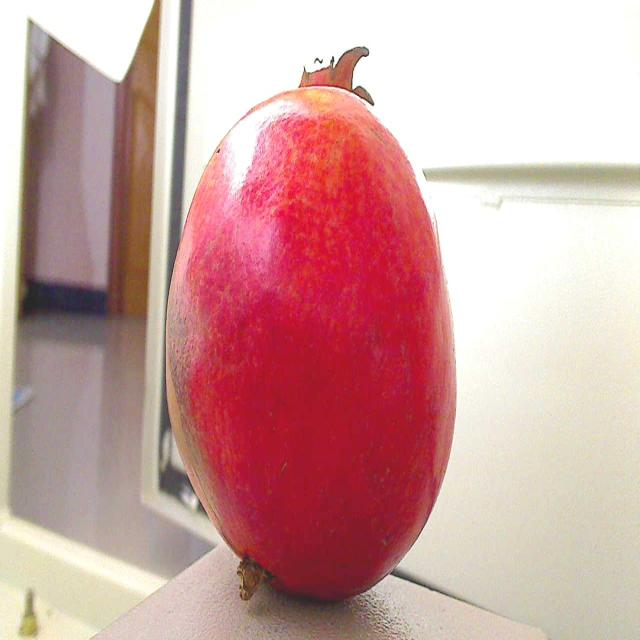pomegranate: (154, 44, 462, 606)
